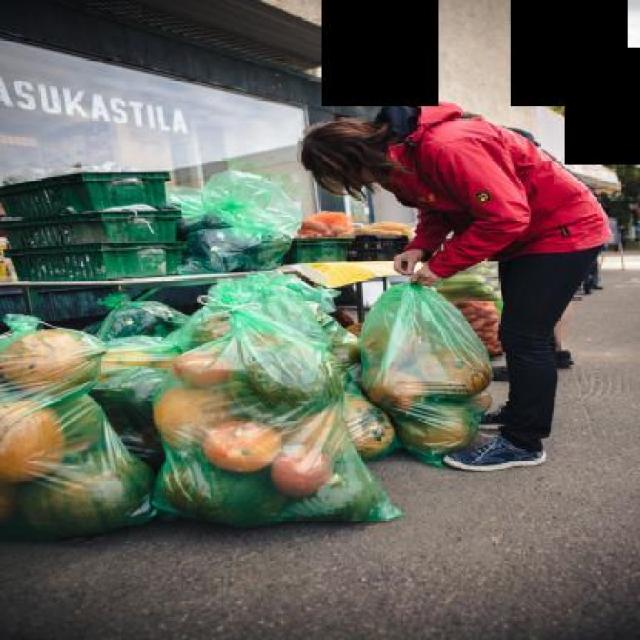plastic bag: (82, 258, 409, 522), (0, 311, 169, 531), (352, 274, 510, 461), (163, 163, 308, 243), (428, 257, 506, 355), (175, 220, 294, 268)
